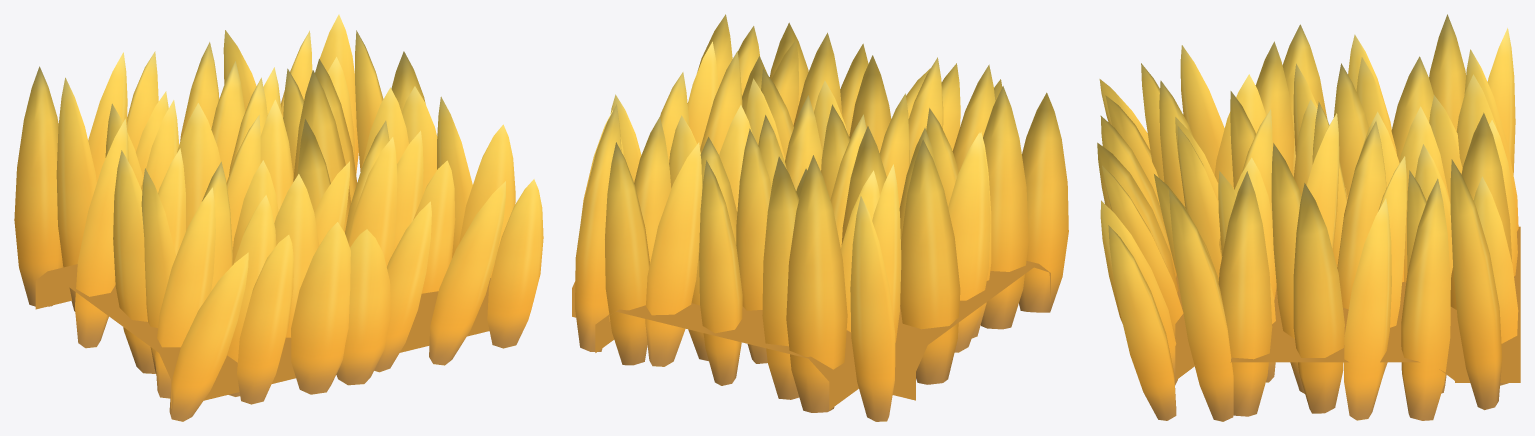
File: grass_t.glb
3 renders of one model, left to right at view 1: azimuth 30°, elevation 25°; view 2: azimuth 150°, elevation 25°; view 3: azimuth 270°, elevation 25°, orthographic. The views are drawn at different scales.
Visible parts, largest first — view 1: grass_t; view 2: grass_t; view 3: grass_t.
Part boxes in pixels (left/top/right/bottom): grass_t: left=14, top=14, right=543, bottom=421; grass_t: left=572, top=14, right=1068, bottom=421; grass_t: left=1097, top=14, right=1520, bottom=421.
Bounding box in the file's own units: 1.05 × 0.6722 × 1.03.
1 material, 1 textured.
